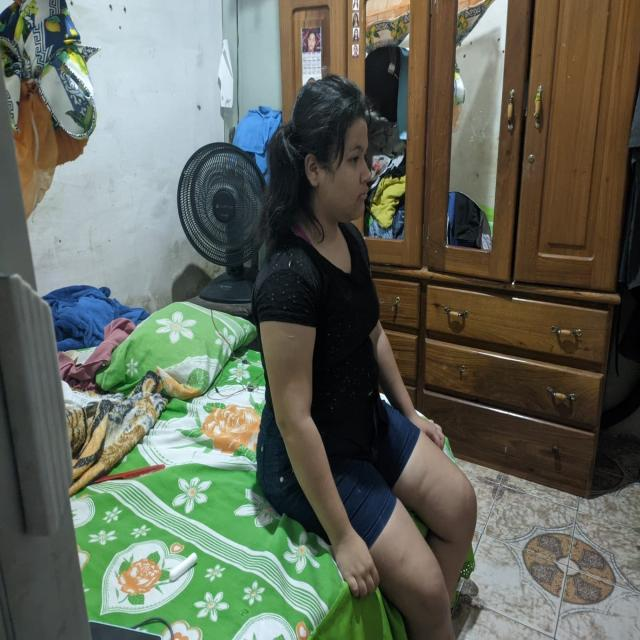sentado: (248, 80, 477, 639)
